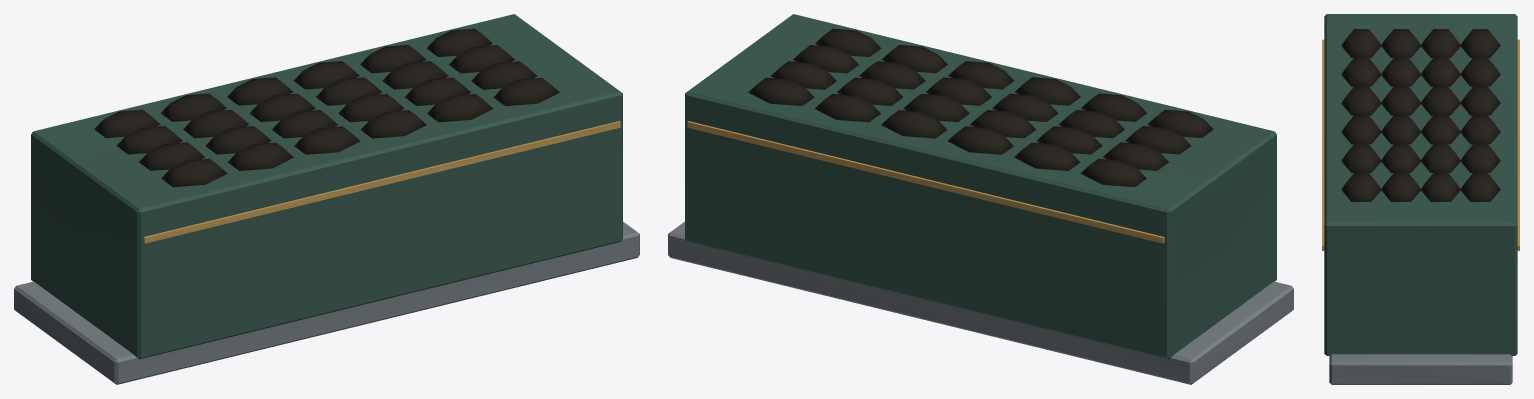
File: tender.glb
3 views of the same model, side by side, from view 1: azimuth 30°, elevation 25°; view 2: azimuth 150°, elevation 25°; view 3: azimuth 270°, elevation 25° (orthographic). The views are drawn at different scales.
Parts seen in each view (by area): view 1: coal tender, coal lump, tender chassis, tender trim; view 2: coal tender, coal lump, tender chassis, tender trim; view 3: coal tender, coal lump, tender chassis, tender trim.
Part boxes in pixels (box(x1,y1,x2,y2)): coal tender: box(31, 14, 622, 359); coal lump: box(94, 28, 559, 187); tender chassis: box(14, 221, 639, 384); tender trim: box(143, 121, 620, 243); coal tender: box(685, 14, 1276, 359); coal lump: box(748, 28, 1213, 187); tender chassis: box(668, 221, 1293, 384); tender trim: box(687, 121, 1164, 243); coal tender: box(1324, 14, 1517, 355); coal lump: box(1341, 29, 1500, 201); tender chassis: box(1329, 354, 1512, 384); tender trim: box(1322, 39, 1519, 250).
Bounding box in the file's own units: 5.3 × 1.81 × 1.95.
